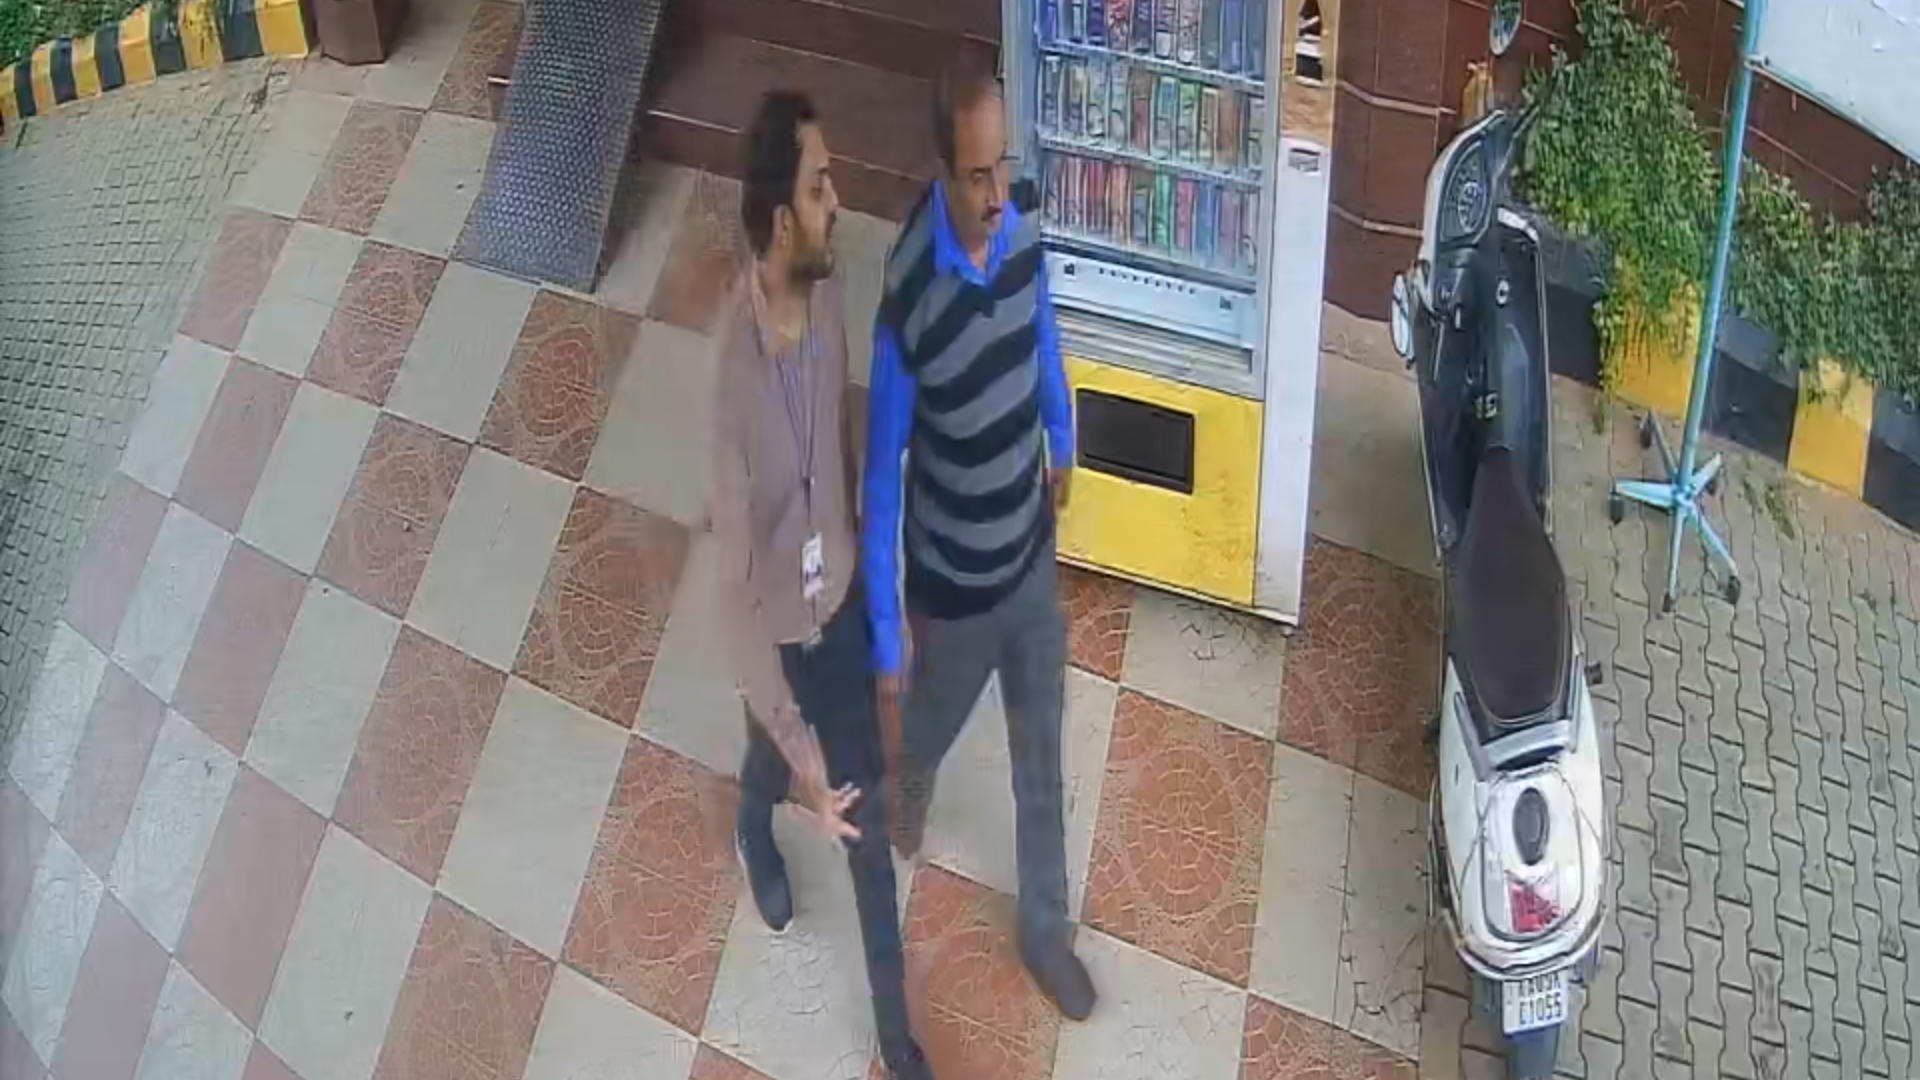intruder: (887, 33, 1080, 1080)
not intruder: (702, 100, 890, 1065)
